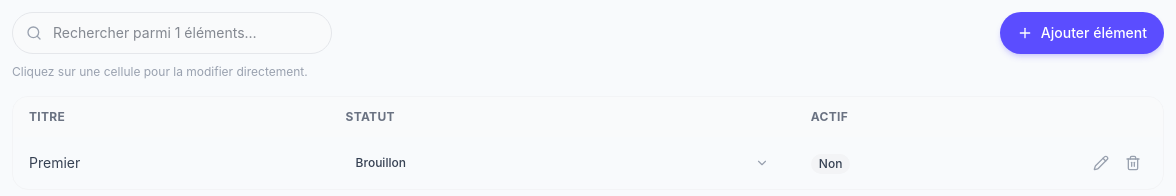
Édition en ligne du tableau backoffice › n’enregistre rien si la valeur n’a pas changé (blur sans modification)
Click the button "Premier" at (55, 162), box [29, 154, 80, 171]
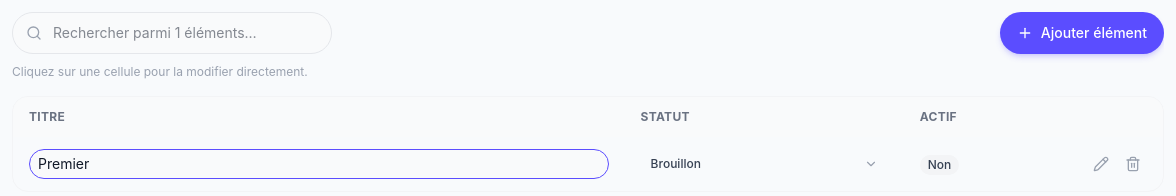
Leave the field showing "Premier", box [29, 149, 609, 179]
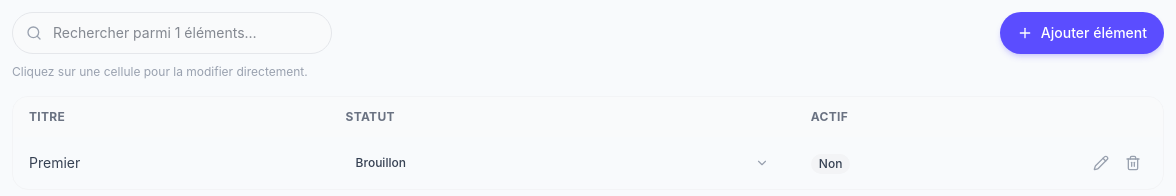
Result: the button "Premier" is shown at [29, 154, 80, 171]
